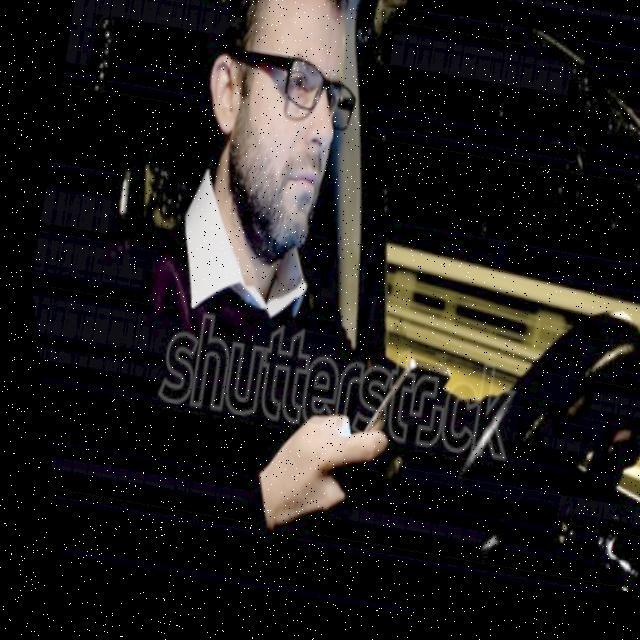PhoneCall: (337, 352, 450, 482)
